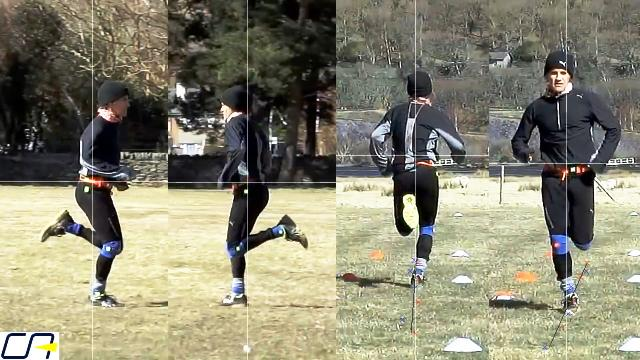berlari: (506, 47, 628, 319), (194, 82, 314, 300), (29, 80, 135, 304), (371, 58, 472, 290)
